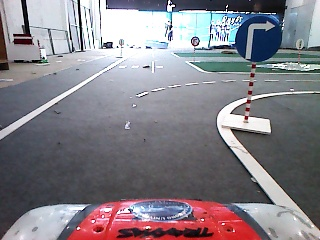turn: (233, 14, 285, 65)
